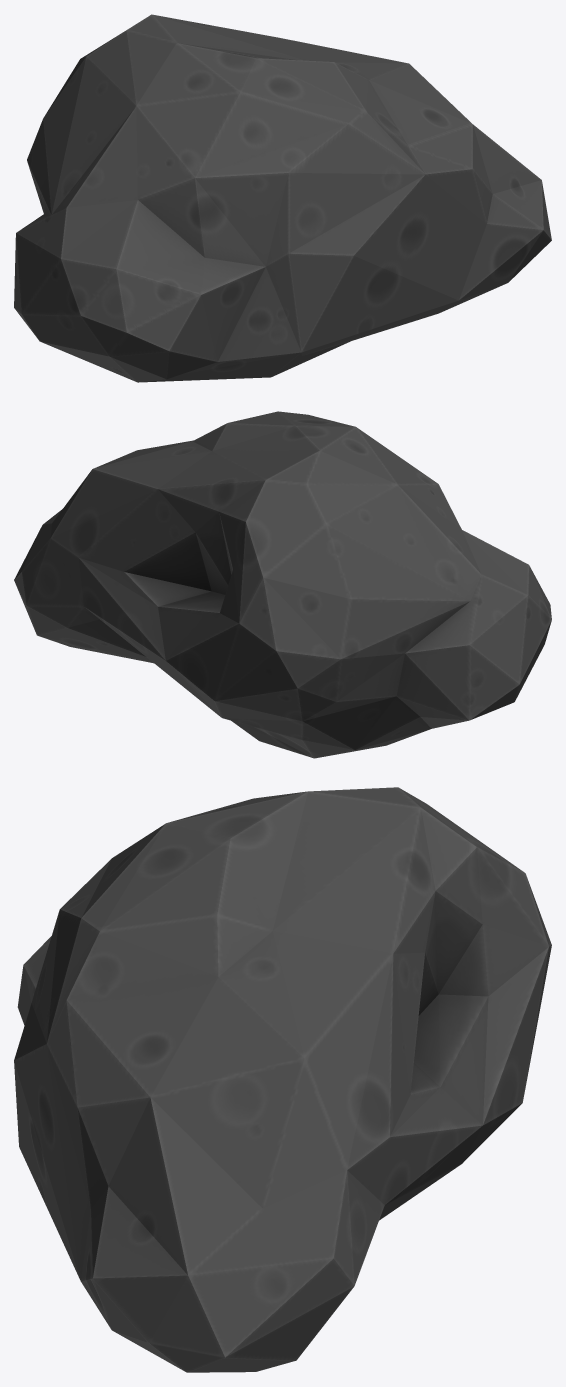
File: asteroid10.glb
3 renders of one model, top to bottom at view 1: azimuth 30°, elevation 25°; view 2: azimuth 150°, elevation 25°; view 3: azimuth 270°, elevation 25°, orthographic. The views are drawn at different scales.
Parts seen in each view (by area): view 1: Asteroids_Mesh.010; view 2: Asteroids_Mesh.010; view 3: Asteroids_Mesh.010.
Boxes of the visible parts, <box> form: Asteroids_Mesh.010: <box>14,14,551,382</box>; Asteroids_Mesh.010: <box>14,411,551,758</box>; Asteroids_Mesh.010: <box>14,787,551,1372</box>.
Size of the model in its own units: 8.08 by 4.74 by 5.15.
Materials: 1 (1 with a texture image).
